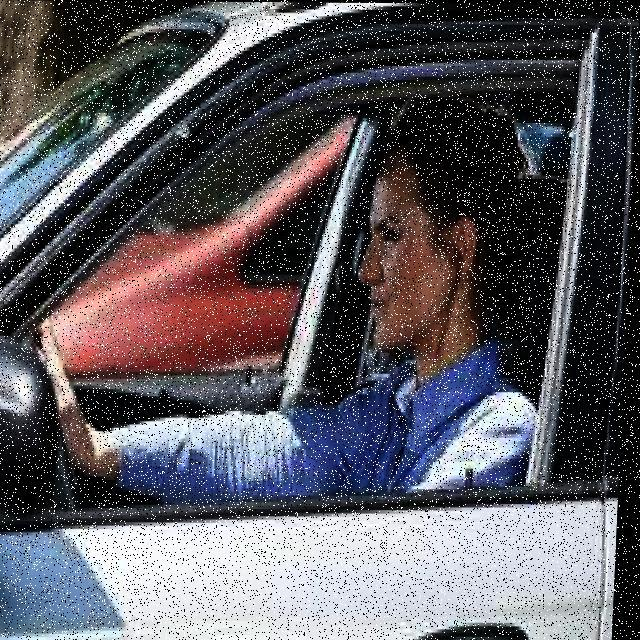noSeatbelt: (282, 286, 536, 507)
